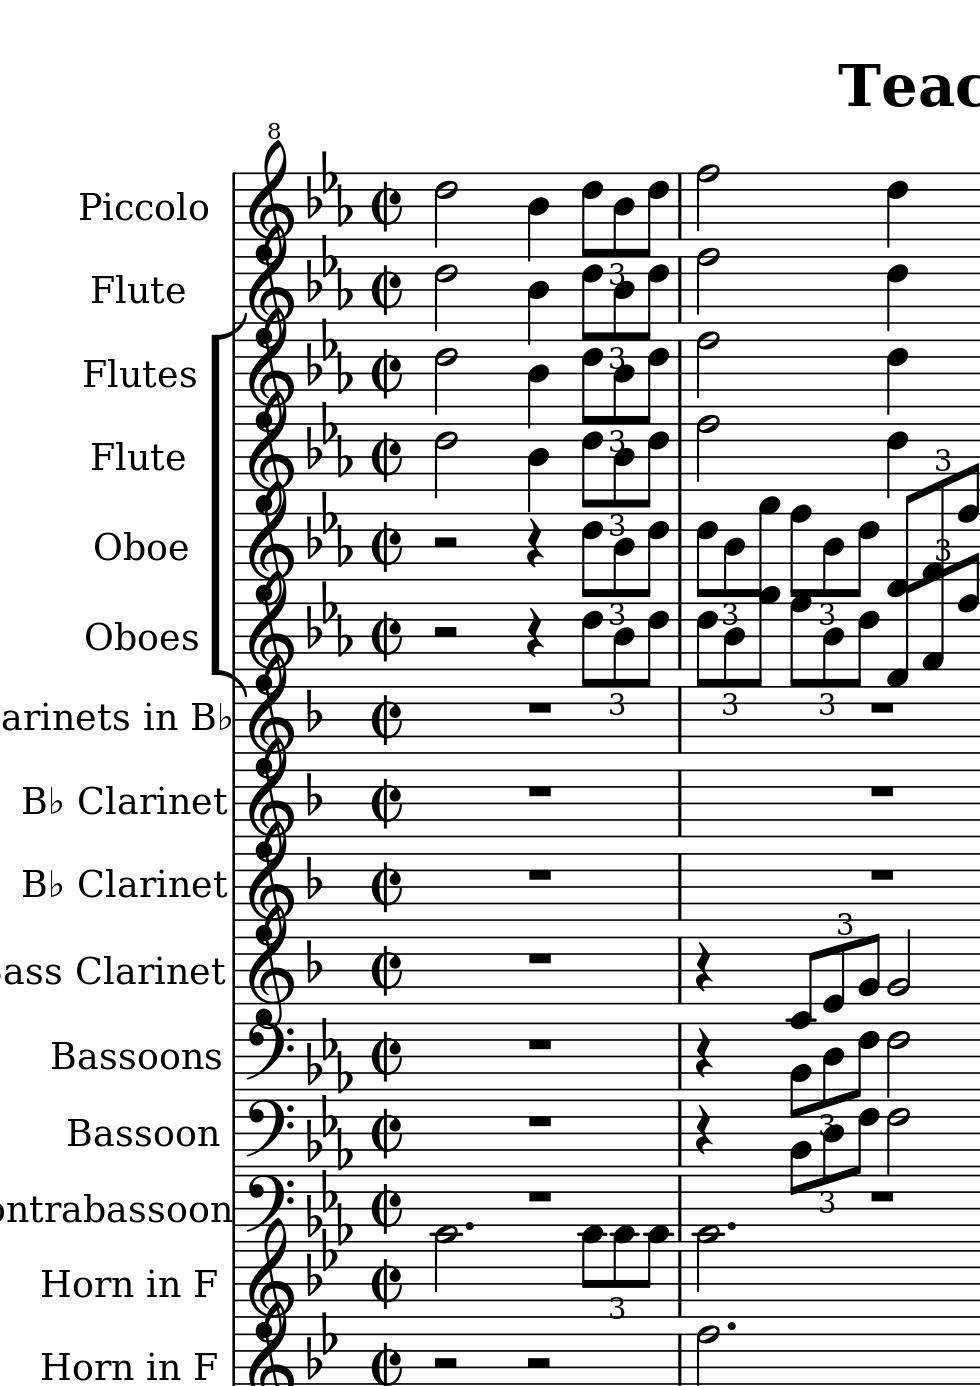2_6: (694, 1318, 721, 1386)
2_8: (694, 243, 721, 323), (695, 407, 720, 494), (695, 162, 722, 240), (695, 326, 721, 404)
8_6: (638, 170, 669, 259)
Bass: (82, 1189, 167, 1230), (49, 1036, 138, 1072), (65, 1117, 154, 1153)
Cl: (78, 786, 117, 823), (77, 951, 115, 988), (77, 866, 115, 903)
E_F: (302, 403, 357, 480), (302, 1095, 357, 1172), (304, 148, 356, 229), (302, 491, 355, 569), (302, 582, 356, 657), (302, 1019, 356, 1094), (302, 318, 355, 394), (302, 235, 355, 310)
Fl: (91, 270, 126, 308), (82, 355, 117, 392), (92, 435, 127, 472)
Flat: (304, 940, 321, 984)
Hn: (38, 1262, 130, 1302), (40, 1346, 132, 1386)
Picc: (78, 190, 155, 224)
Rests1: (865, 862, 898, 885), (523, 780, 557, 802), (523, 948, 557, 969), (865, 698, 898, 719), (865, 780, 898, 802), (523, 864, 556, 885), (523, 1034, 556, 1054), (523, 699, 555, 719), (524, 1112, 555, 1131), (524, 1187, 556, 1205), (867, 1188, 898, 1206)
Rests2: (428, 534, 462, 555), (430, 622, 461, 643), (428, 1353, 460, 1372), (522, 1354, 554, 1373)
Rests4: (692, 1105, 715, 1158), (524, 607, 545, 660), (693, 1028, 714, 1080), (524, 517, 544, 569), (693, 941, 713, 993)
Single_barline: (672, 768, 687, 838), (672, 687, 687, 755), (673, 173, 688, 239), (672, 853, 686, 922), (673, 937, 686, 1005), (673, 1252, 686, 1316), (672, 1335, 687, 1386)
TimeSig: (366, 1250, 404, 1321), (368, 173, 405, 244), (368, 685, 404, 756), (367, 1099, 404, 1168), (367, 601, 402, 673), (368, 1173, 404, 1243), (369, 339, 404, 410), (369, 257, 405, 326), (366, 512, 402, 581), (369, 769, 404, 839), (370, 852, 404, 924), (370, 1021, 404, 1090), (368, 423, 401, 492), (370, 935, 403, 1003)
dot: (725, 1217, 739, 1234), (727, 1319, 739, 1333), (463, 1221, 474, 1234)
